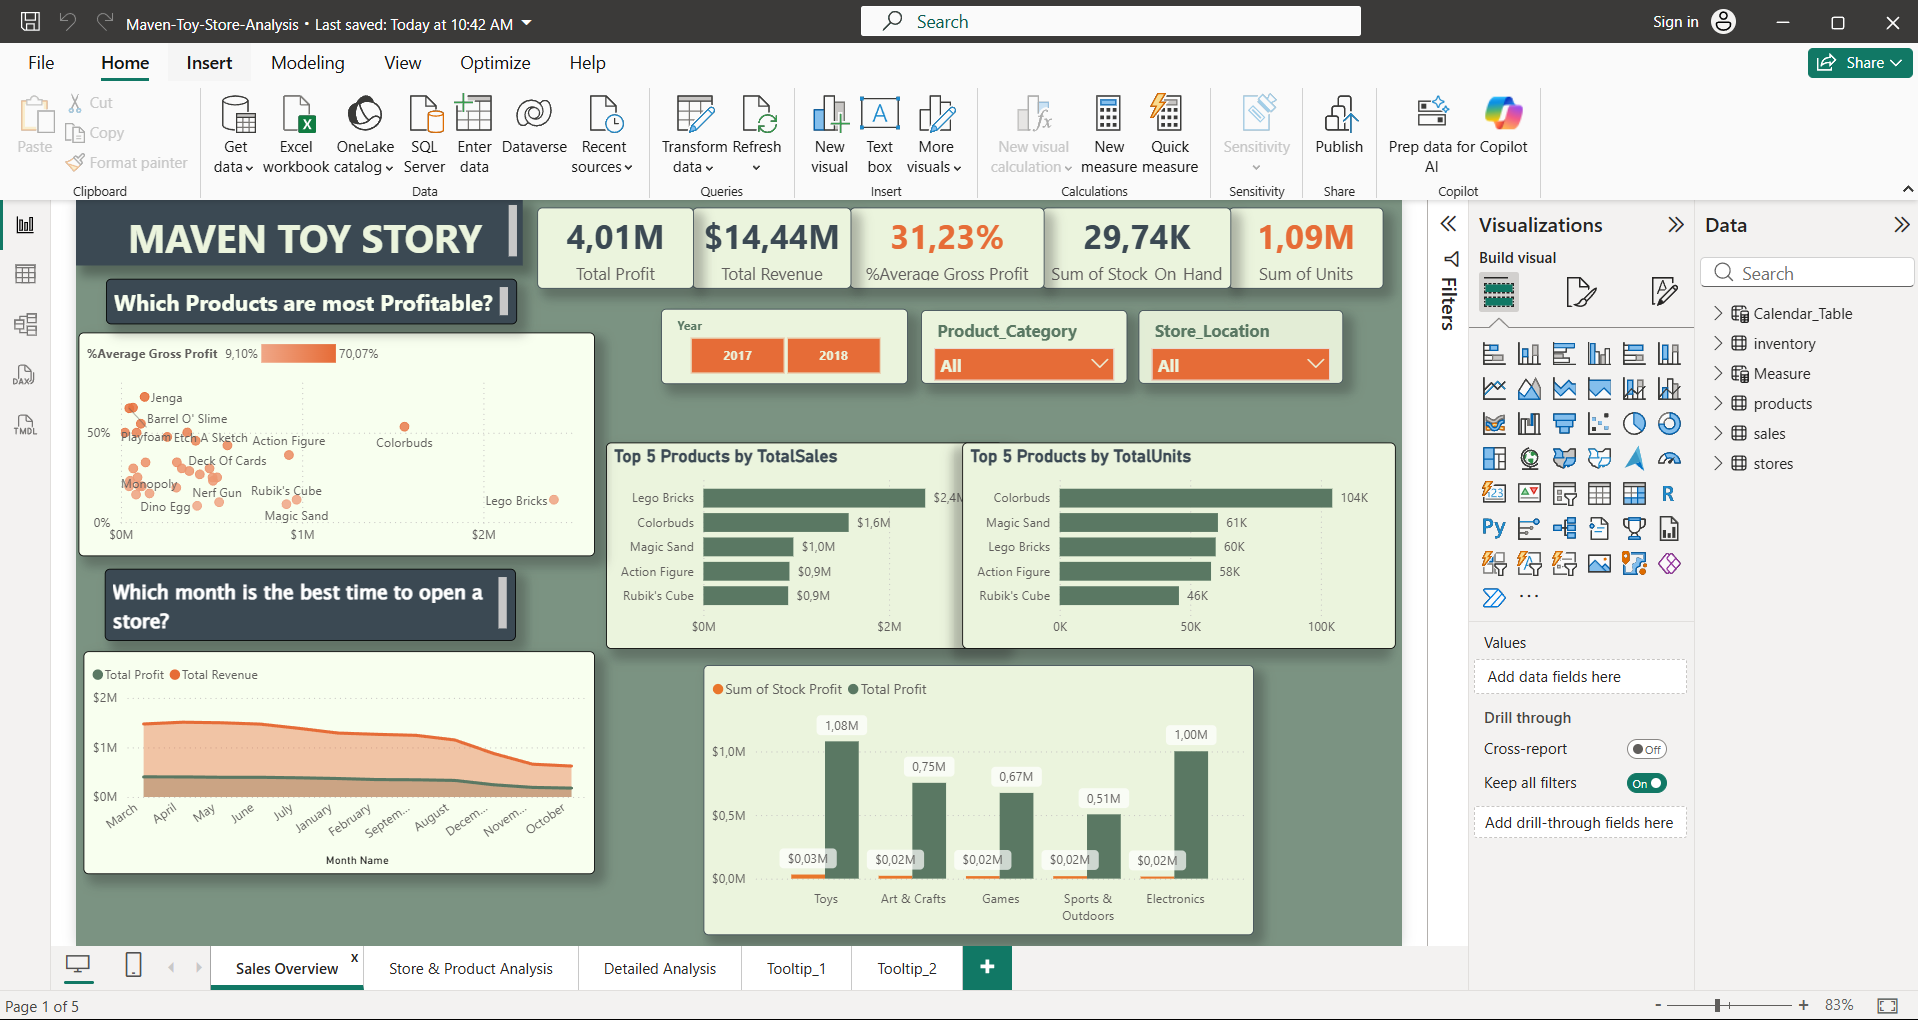

Layout of this report page (visuals, bound fields, positions):
{"tool":"powerbi","page":{"name":"Sales Overview","canvas":[1280,720],"ordinal":0},"visuals":[{"type":"card","fields":{"Values":["Sum(sales.Units)"]},"box":[1112.2,6.9,149.6,78.2],"z":0},{"type":"card","fields":{"Values":["Sum(inventory.Stock_On_Hand)"]},"box":[932,6.9,182.5,78.2],"z":1000},{"type":"card","fields":{"Values":["Measure.%Average Gross Profit"]},"box":[747,6.9,188,78.2],"z":2000},{"type":"textbox","box":[0,0,430.9,63.1],"z":3000},{"type":"card","fields":{"Values":["Measure.Total Revenue"]},"box":[594.7,6.9,153.7,78.2],"z":4000},{"type":"card","fields":{"Values":["Measure.Total Profit"]},"box":[445.3,6.9,150.9,78.2],"z":5000},{"type":"slicer","fields":{"Values":["Calendar_Table.Year"]},"box":[564.4,105,238.8,72.7],"z":6000},{"type":"slicer","fields":{"Values":["products.Product_Category"]},"box":[815.5,106.4,199,71.4],"z":7000},{"type":"clusteredBarChart","title":"Top 5 Products by TotalSales","fields":{"Category":["products.Product_Name"],"Y":["Sum(sales.Revenue)"]},"box":[511.3,234.5,382.8,199],"z":8000},{"type":"slicer","fields":{"Values":["stores.Store_Location"]},"box":[1025.5,106.4,197.6,71.4],"z":9000},{"type":"clusteredBarChart","title":"Top 5 Products by TotalUnits","fields":{"Category":["products.Product_Name"],"Y":["Measure.Total Units"]},"box":[855.8,234.5,418.5,199],"z":10000},{"type":"scatterChart","fields":{"Category":["products.Product_Name"],"X":["Measure.Total Revenue"],"Y":["Median(sales.Gross Profit Margin)"]},"box":[2.4,127.9,498.3,216],"z":11000},{"type":"textbox","box":[28.8,75.5,396.6,43.9],"z":12000},{"type":"textbox","box":[27.4,355.4,396.6,70],"z":13000},{"type":"areaChart","fields":{"Category":["Calendar_Table.Month Name"],"Y":["Measure.Total Profit","Measure.Total Revenue"]},"box":[6.9,435,494,215.4],"z":14000},{"type":"lineClusteredColumnComboChart","fields":{"Category":["products.Product_Category"],"Y":["Sum(inventory.Stock Profit)","Measure.Total Profit"]},"box":[605.1,448.7,531,260.7],"z":15000}]}

Visuals, with their boxes on the page's 1280x720 design canvas (x1, y1, x2, y2). These are canvas units, not pixel positions in the 1918x1020 screenshot, which may show the page scaled, cropped or inside an application window:
card - Sum(sales.Units): (x1=1112, y1=7, x2=1262, y2=85)
card - Sum(inventory.Stock_On_Hand): (x1=932, y1=7, x2=1114, y2=85)
card - Measure.%Average Gross Profit: (x1=747, y1=7, x2=935, y2=85)
textbox: (x1=0, y1=0, x2=431, y2=63)
card - Measure.Total Revenue: (x1=595, y1=7, x2=748, y2=85)
card - Measure.Total Profit: (x1=445, y1=7, x2=596, y2=85)
slicer - Calendar_Table.Year: (x1=564, y1=105, x2=803, y2=178)
slicer - products.Product_Category: (x1=816, y1=106, x2=1014, y2=178)
"Top 5 Products by TotalSales" clusteredBarChart: (x1=511, y1=234, x2=894, y2=434)
slicer - stores.Store_Location: (x1=1026, y1=106, x2=1223, y2=178)
"Top 5 Products by TotalUnits" clusteredBarChart: (x1=856, y1=234, x2=1274, y2=434)
scatterChart - products.Product_Name x Measure.Total Revenue: (x1=2, y1=128, x2=501, y2=344)
textbox: (x1=29, y1=76, x2=425, y2=119)
textbox: (x1=27, y1=355, x2=424, y2=425)
areaChart - Calendar_Table.Month Name x Measure.Total Profit: (x1=7, y1=435, x2=501, y2=650)
lineClusteredColumnComboChart - products.Product_Category x Sum(inventory.Stock Profit): (x1=605, y1=449, x2=1136, y2=709)
